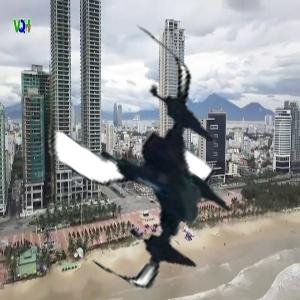drone: (19, 41, 262, 284)
